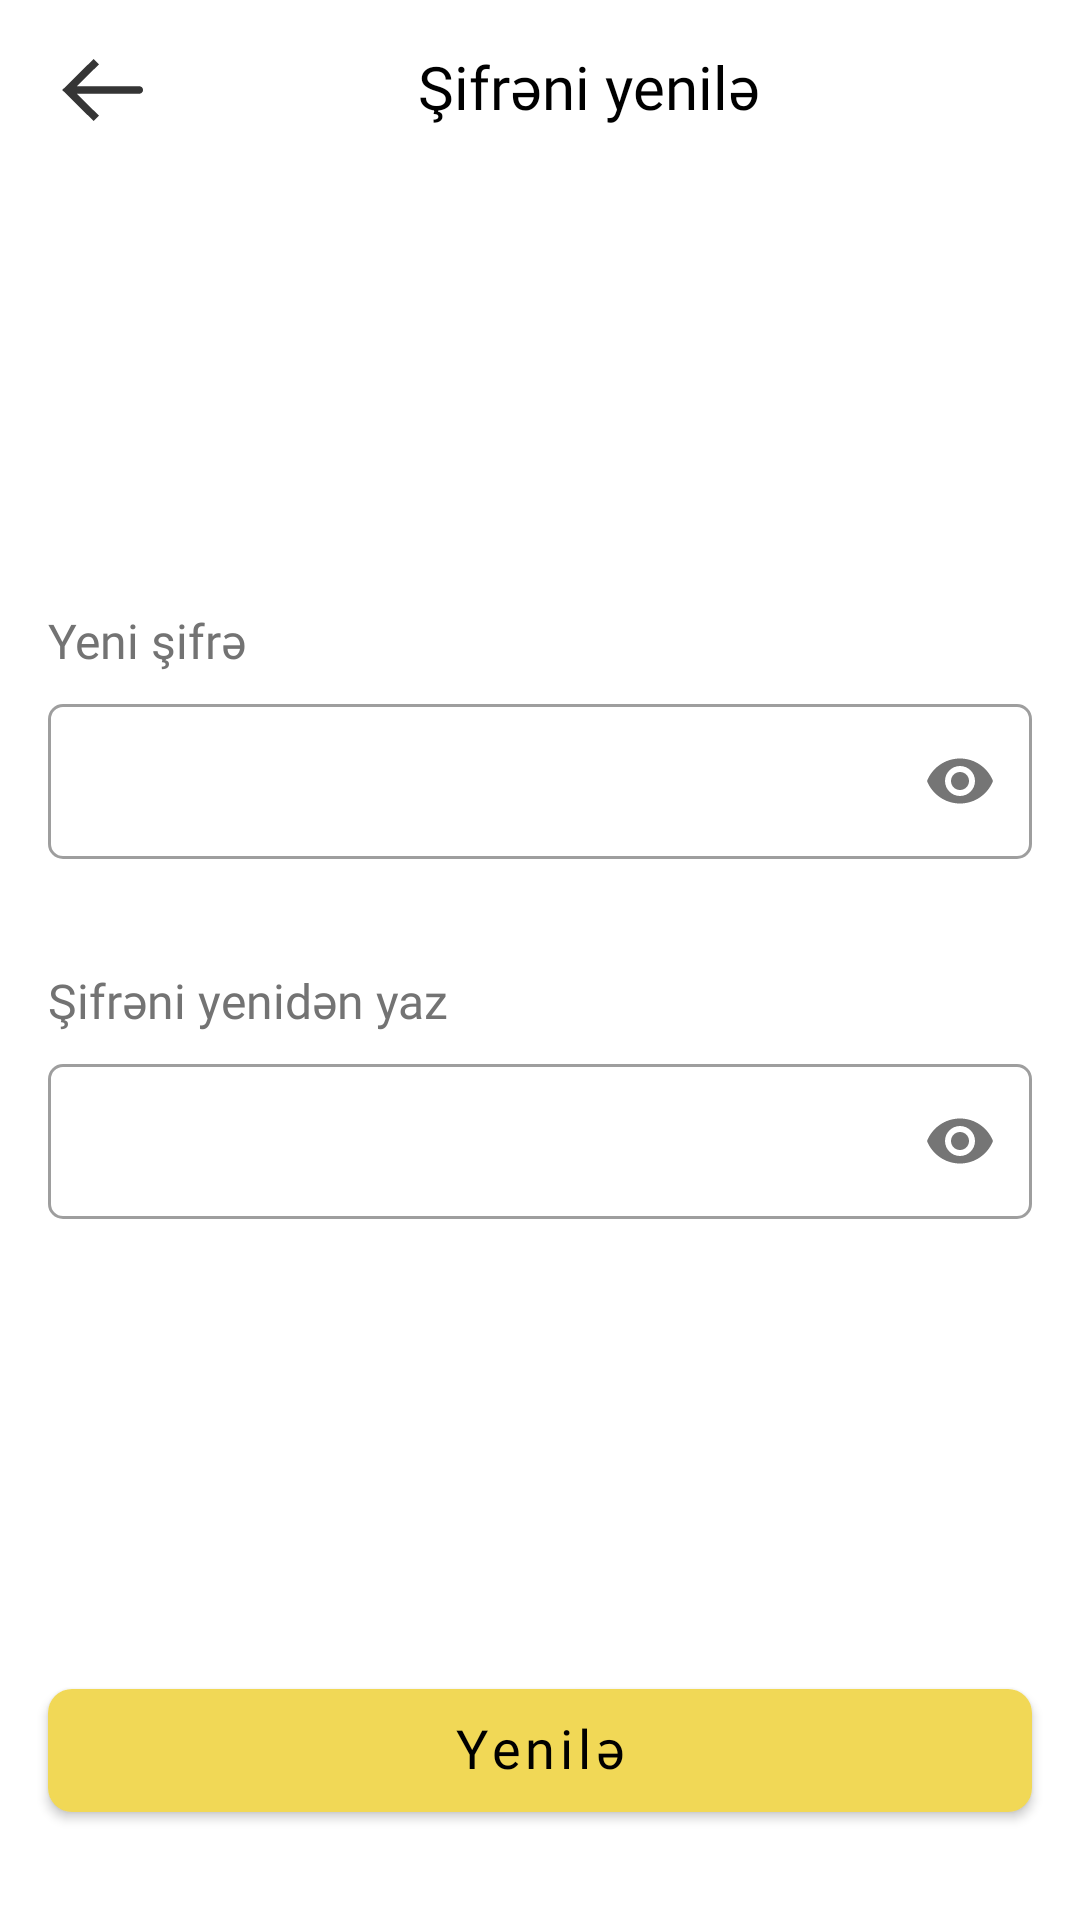

Where icons sit on this 1080 x 1920 app screen, as Rect(x1, y1, x2, y2):
go back: Rect(62, 59, 143, 121)
